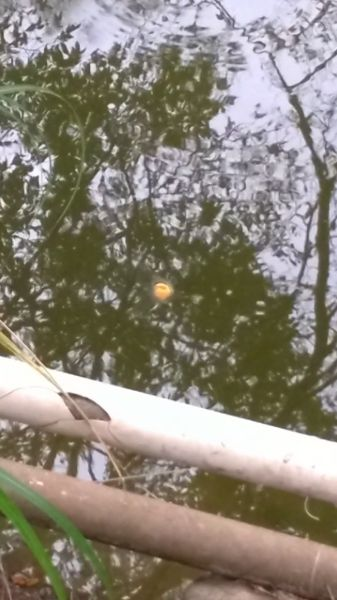eggs: (149, 278, 175, 301)
